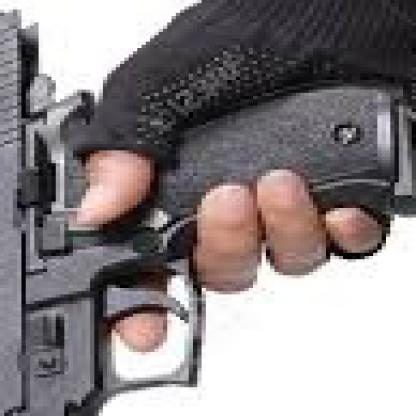gun: (0, 9, 412, 412)
